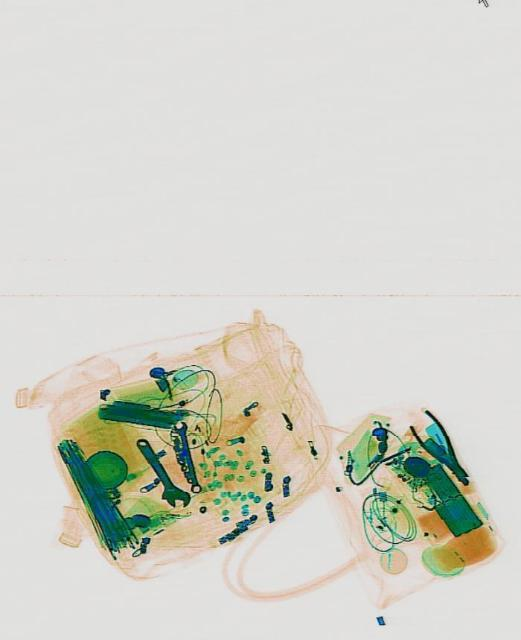Pliers: (404, 405, 476, 493)
Wrench: (127, 430, 193, 516), (169, 418, 204, 492)
